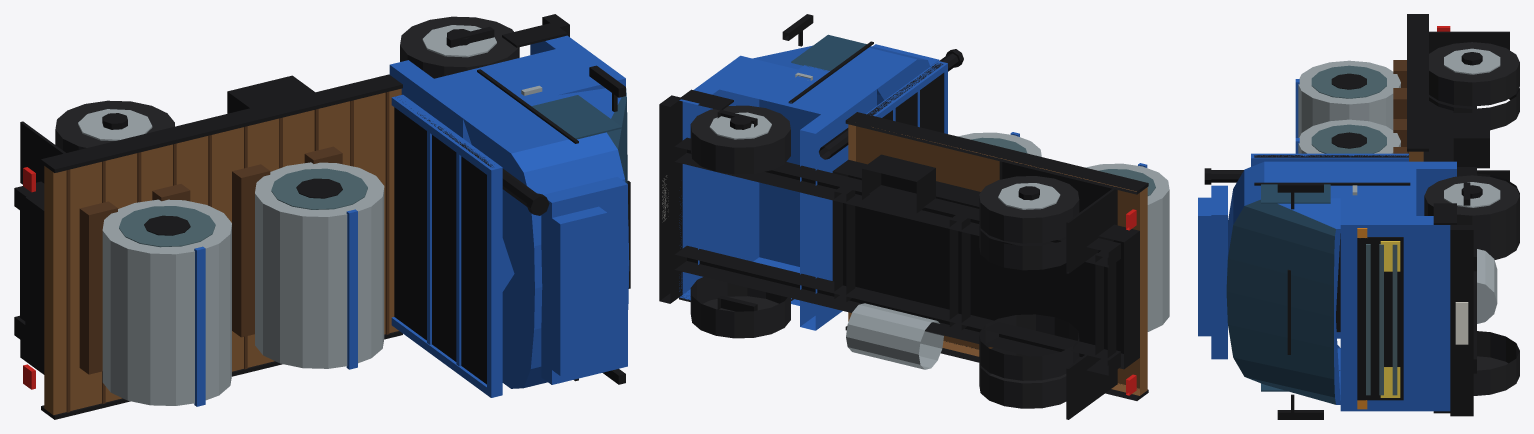
Rendered from loaded.glb.
3 renders of one model, left to right at view 1: azimuth 30°, elevation 25°; view 2: azimuth 150°, elevation 25°; view 3: azimuth 270°, elevation 25°, orthographic. The views are drawn at different scales.
Visible parts, largest first — view 1: loaded_deck, loaded_coil-0.45, loaded_coil-2.55, loaded_headboard, loaded_cab_upper, loaded_air_dam_top, loaded_air_dam, loaded_side1_-3.60_1.67_black, loaded_cab_arch, loaded_front1, loaded_chock-2.55-1, loaded_rear_out1 (+26 smaller); view 2: loaded_subframe, loaded_cab_arch, loaded_chassis-1, loaded_deck, loaded_cab_front, loaded_cab_back, loaded_chassis1, loaded_front1, loaded_rear_out1, loaded_fuel_tank, loaded_bumper, loaded_side1_-3.60_1.67_black (+21 smaller); view 3: loaded_cab_upper, loaded_cab_front, loaded_rear_out1, loaded_grille, loaded_front1, loaded_bumper, loaded_coil-2.55, loaded_cab_arch, loaded_side1_-3.60_1.67_black, loaded_air_dam, loaded_front-1, loaded_battery_box (+30 smaller).
Boxes of the visible parts, x1,y1,x2,y2 form: loaded_deck: [44, 88, 401, 415]; loaded_coil-0.45: [255, 162, 384, 368]; loaded_coil-2.55: [102, 199, 231, 405]; loaded_headboard: [394, 107, 493, 384]; loaded_cab_upper: [463, 88, 629, 388]; loaded_air_dam_top: [552, 206, 607, 375]; loaded_air_dam: [541, 176, 627, 384]; loaded_side1_-3.60_1.67_black: [41, 74, 402, 172]; loaded_cab_arch: [434, 49, 603, 291]; loaded_front1: [400, 16, 519, 78]; loaded_chock-2.55-1: [79, 201, 117, 374]; loaded_rear_out1: [55, 100, 174, 152]; loaded_subframe: [832, 159, 1139, 369]; loaded_cab_arch: [719, 60, 860, 305]; loaded_chassis-1: [674, 245, 1120, 375]; loaded_deck: [848, 124, 1147, 395]; loaded_cab_front: [679, 55, 759, 300]; loaded_cab_back: [800, 85, 876, 330]; loaded_chassis1: [674, 137, 1120, 267]; loaded_front1: [690, 105, 790, 174]; loaded_rear_out1: [979, 176, 1079, 243]; loaded_fuel_tank: [846, 303, 943, 369]; loaded_bumper: [659, 95, 682, 303]; loaded_side1_-3.60_1.67_black: [845, 112, 1148, 194]; loaded_cab_upper: [1226, 161, 1340, 404]; loaded_cab_front: [1340, 216, 1450, 411]; loaded_rear_out1: [1429, 42, 1519, 106]; loaded_grille: [1357, 237, 1403, 400]; loaded_front1: [1424, 175, 1519, 240]; loaded_bumper: [1450, 225, 1473, 416]; loaded_coil-2.55: [1298, 60, 1400, 137]; loaded_cab_arch: [1340, 169, 1416, 215]; loaded_side1_-3.60_1.67_black: [1407, 14, 1428, 151]; loaded_air_dam: [1211, 185, 1227, 359]; loaded_front-1: [1473, 331, 1519, 395]; loaded_battery_box: [1453, 113, 1489, 168].
Size of the model in its own units: 7.56 by 3.9 by 4.85.
